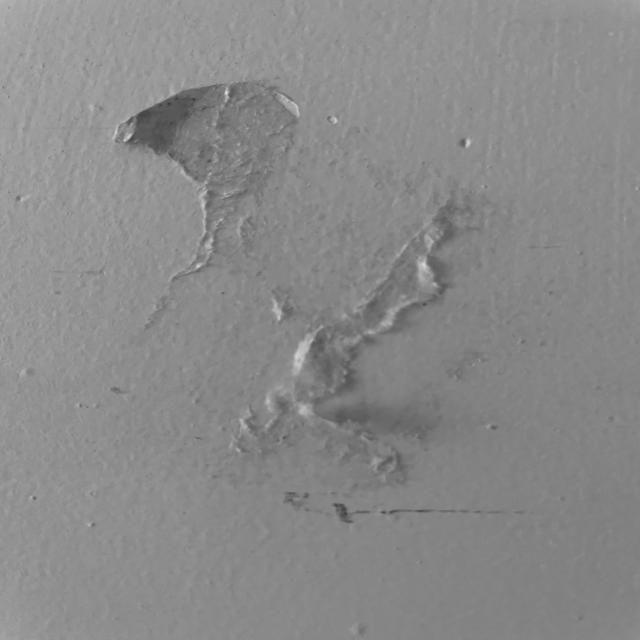rough and patchy surface: (35, 11, 640, 627)
